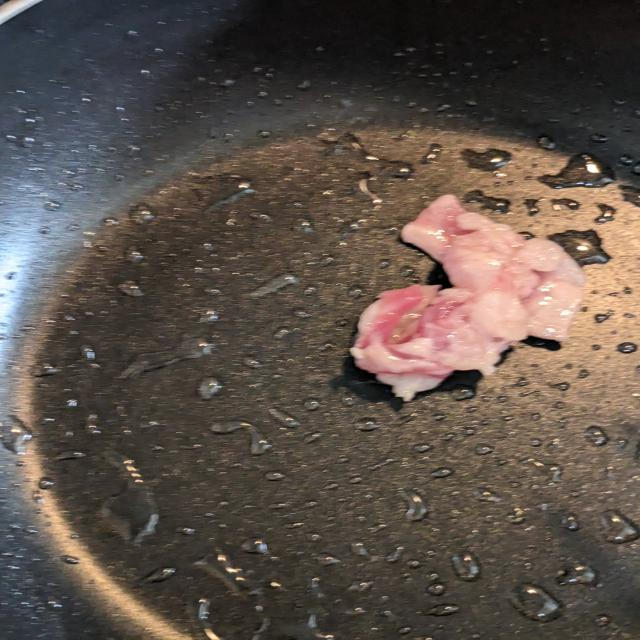NG undercooked pork,: (330, 181, 604, 413)
